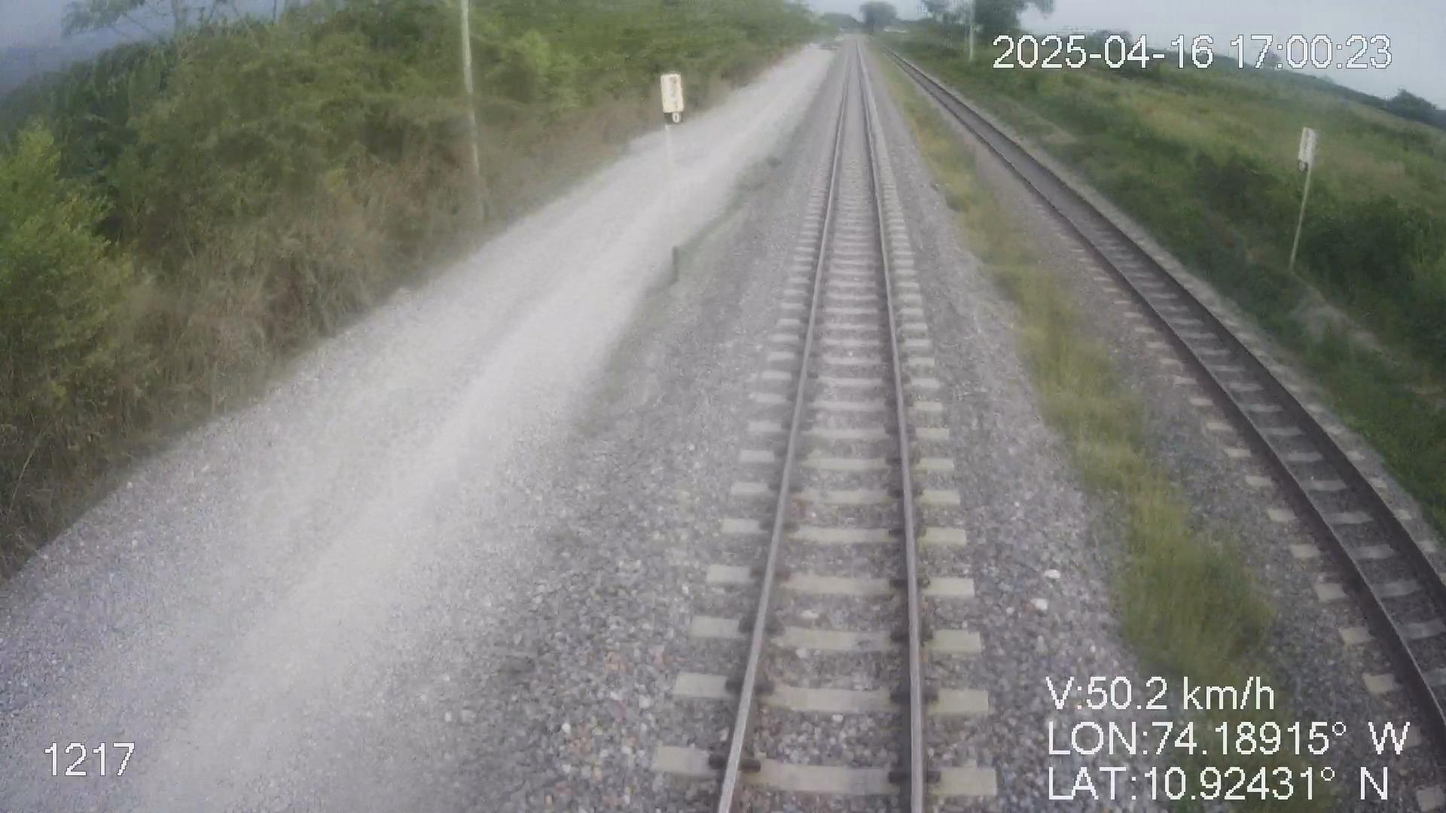Pasto: (0, 0, 869, 593), (869, 1, 1445, 586)
